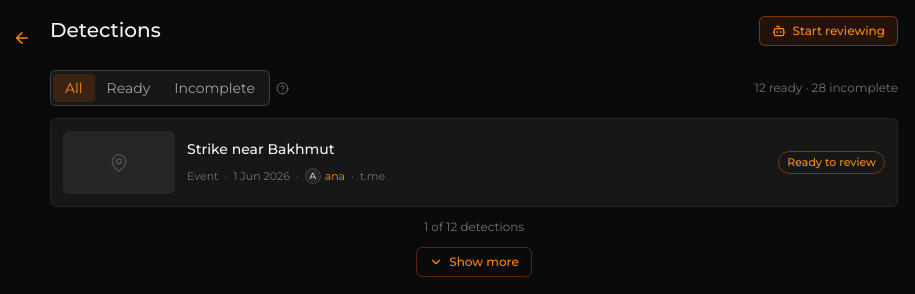
Test: DetectionsPage queue filter › counts the loaded rows against the filtered total, and names it
Click the button "Ready".
click(128, 88)  # box [95,74,162,102]
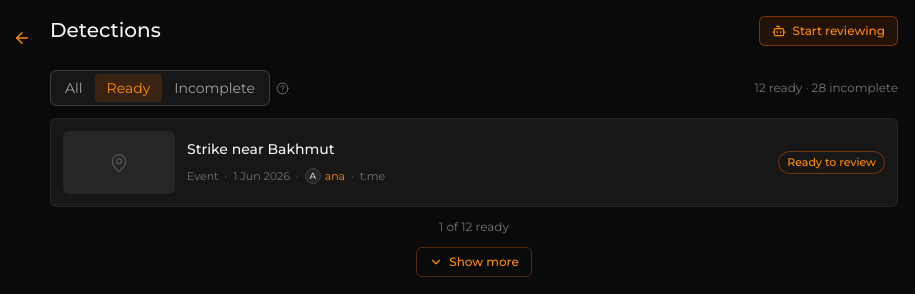
Now the text "1 of 12 ready" is shown, box [439,219,509,234]
